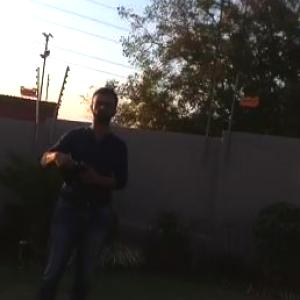follow: (28, 81, 132, 299)
